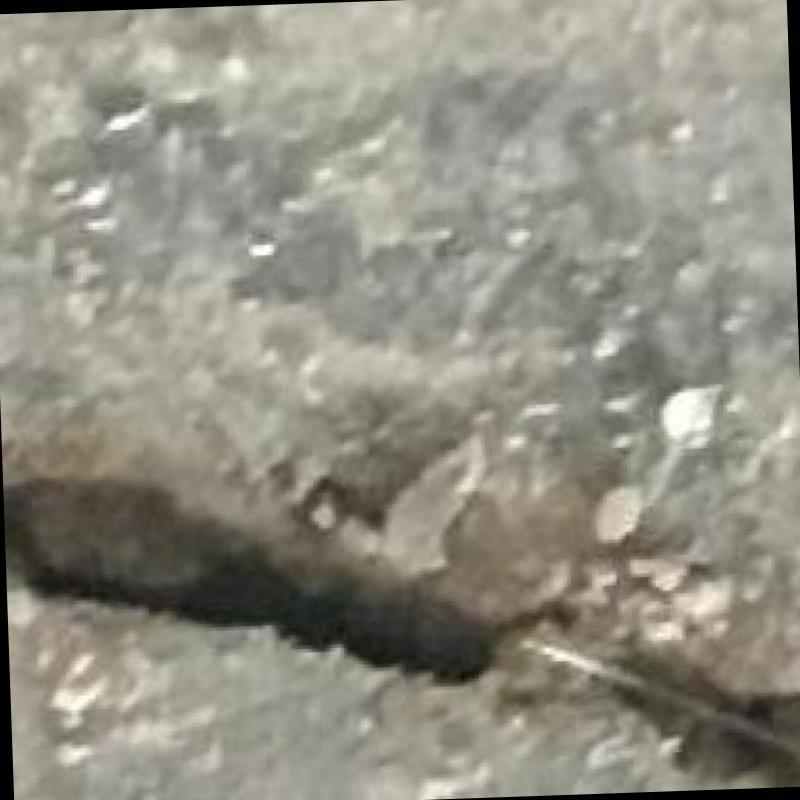crack: (3, 477, 800, 786)
